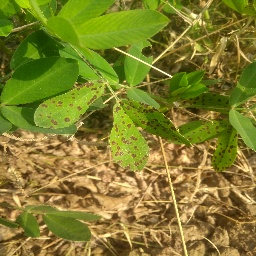GroundNut_Leaf: (108, 94, 190, 175), (34, 77, 105, 132), (75, 8, 170, 49), (42, 208, 92, 244), (227, 62, 255, 111), (215, 126, 238, 179)
